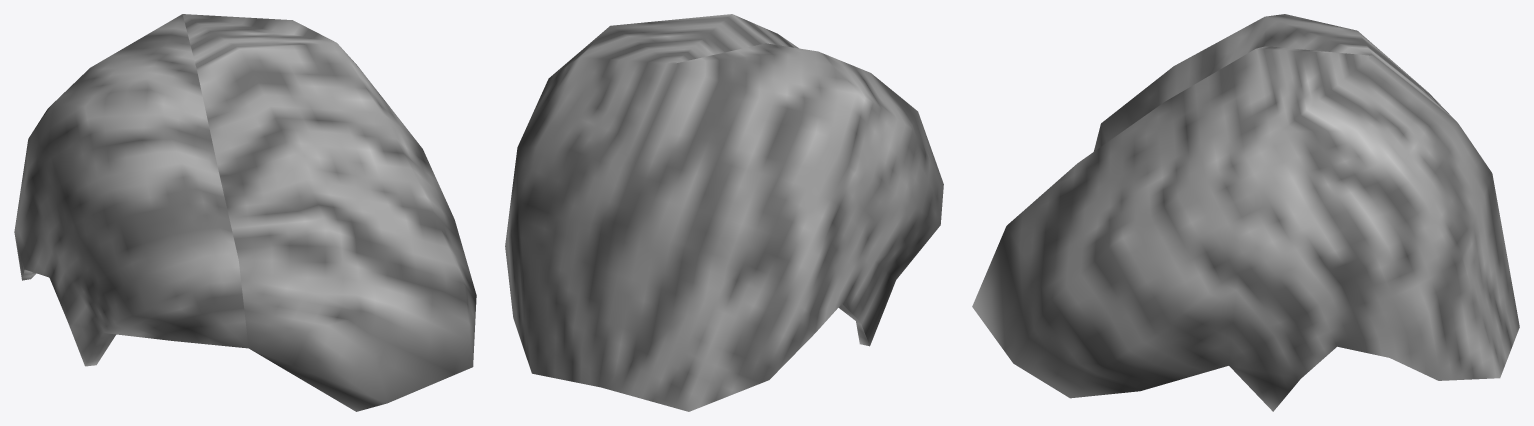
The model's file is Wig_Kate_Hair_PartingLeft.fbx.
3 renders of one model, left to right at view 1: azimuth 30°, elevation 25°; view 2: azimuth 150°, elevation 25°; view 3: azimuth 270°, elevation 25°, orthographic.
Visible parts, largest first — view 1: BoxOfJars003; view 2: BoxOfJars003; view 3: BoxOfJars003.
Boxes of the visible parts, box(x1,y1,x2,y2) form: BoxOfJars003: box(14, 14, 476, 411); BoxOfJars003: box(505, 14, 943, 411); BoxOfJars003: box(972, 14, 1519, 411).
Size of the model in its own units: 11.65 by 9.44 by 16.05.
